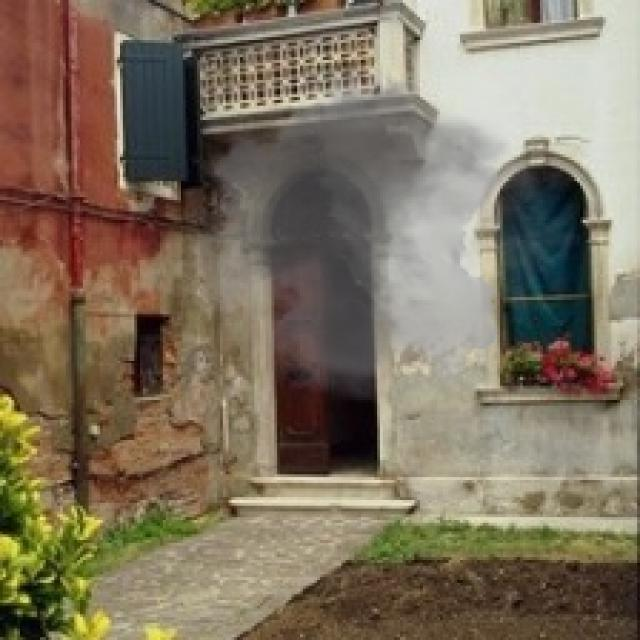smoke: (168, 54, 583, 403)
